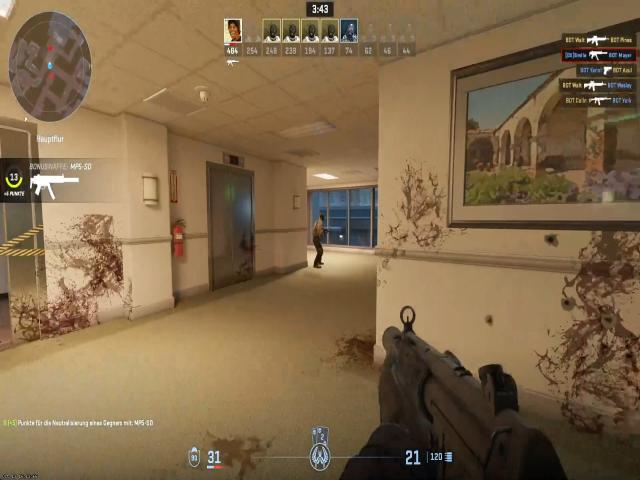T: (310, 211, 328, 261)
T-Head: (313, 211, 326, 230)
